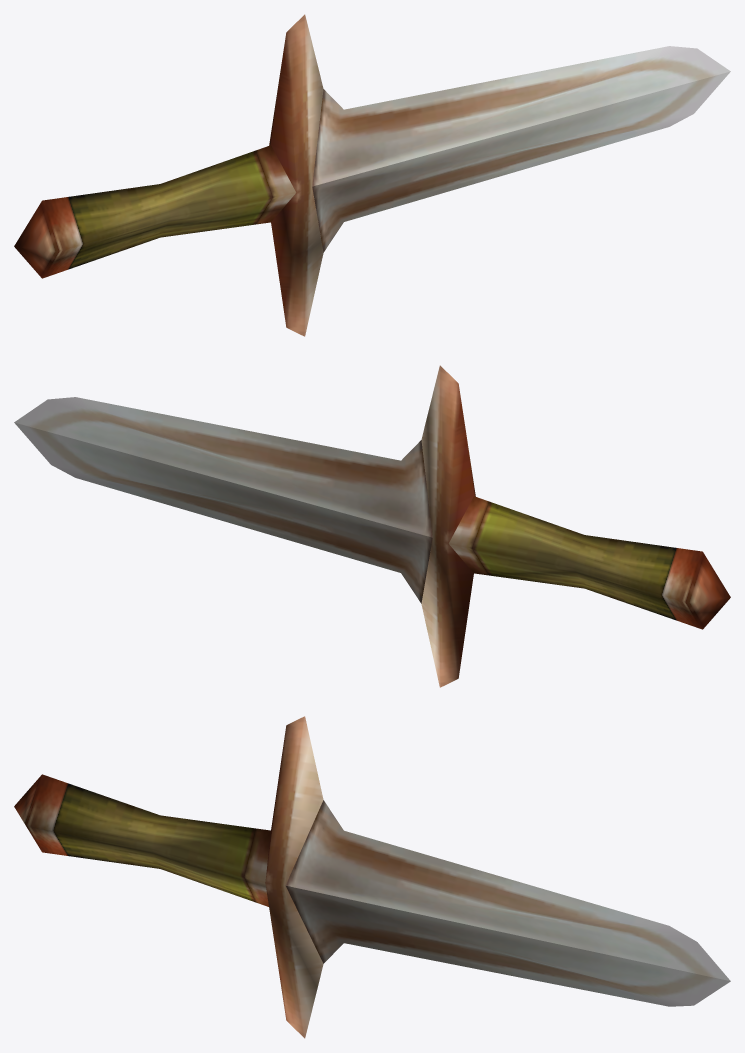
File: knife_1h_dagger_a_01.obj
3 views of the same model, one above another, from view 1: azimuth 30°, elevation 25°; view 2: azimuth 150°, elevation 25°; view 3: azimuth 330°, elevation 25° (orthographic).
Parts seen in each view (by area): view 1: knife_1h_dagger_a_01; view 2: knife_1h_dagger_a_01; view 3: knife_1h_dagger_a_01.
Boxes of the visible parts, <box> form: knife_1h_dagger_a_01: <box>14,14,730,336</box>; knife_1h_dagger_a_01: <box>14,365,730,687</box>; knife_1h_dagger_a_01: <box>14,716,730,1038</box>.
Bounding box in the file's own units: 0.6216 × 0.2675 × 0.0489.
1 material, 1 textured.
